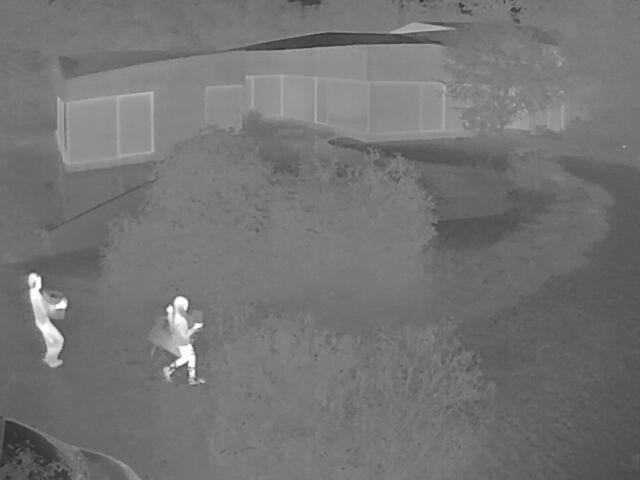person: (24, 271, 66, 371), (163, 295, 202, 384)
